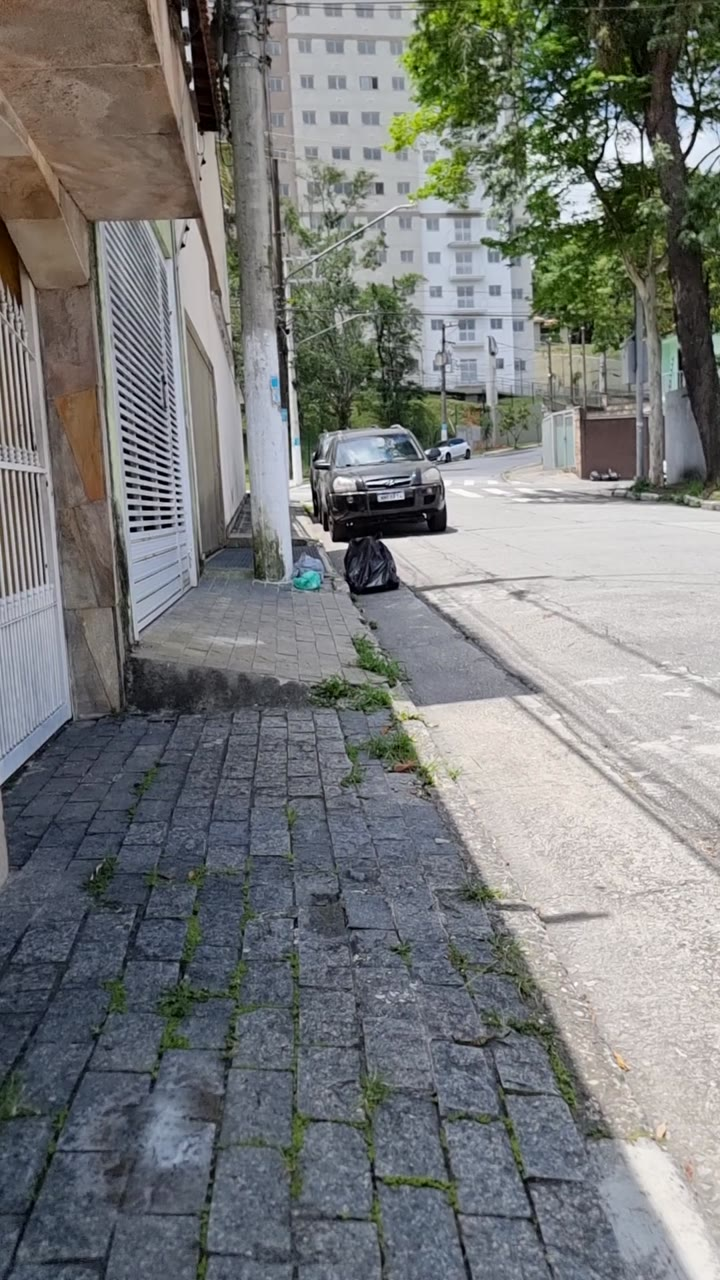desnivel: (108, 627, 396, 704)
obstaculo: (238, 0, 302, 563), (293, 567, 322, 591)
